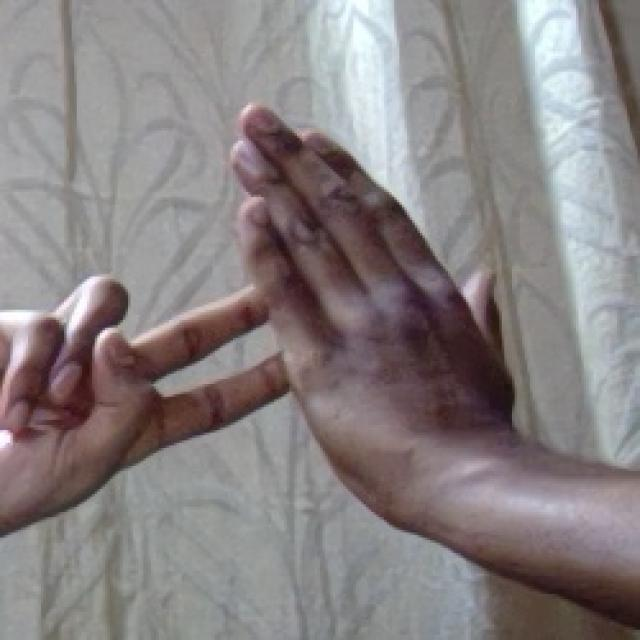Alphabet-N: (0, 100, 518, 514)
